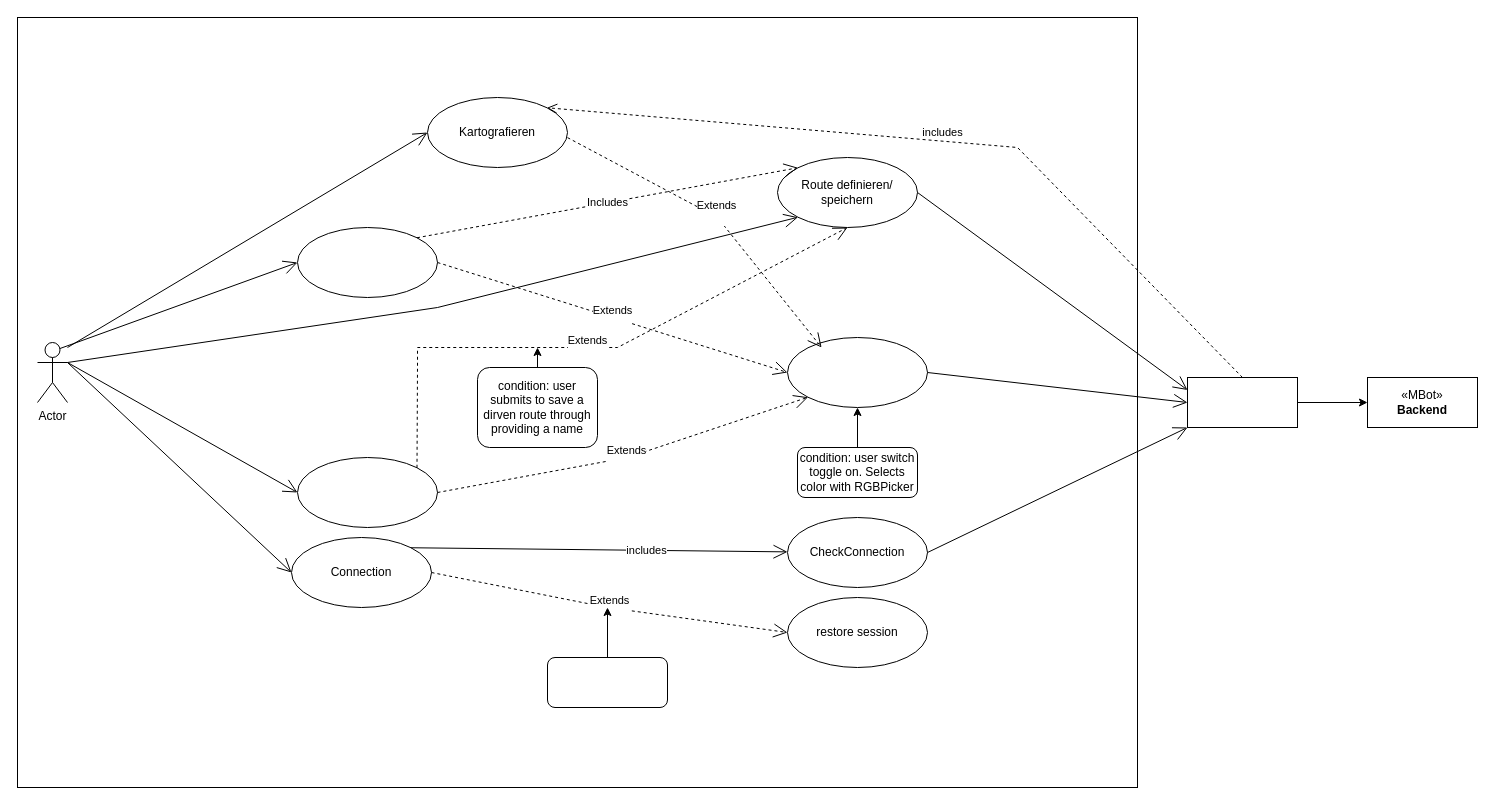
This 1495x805 diagram has some shape labels left out. The shapes that lost their labels are listed below. From the top down, each one's box as (x1, y1, x2, y2) in pixels, then its label:
(296, 226, 438, 298): Automatisch Fahren
(786, 336, 928, 408): LED ansteuern
(1186, 376, 1298, 428): «Frontend bridge» Backend
(296, 456, 438, 528): Manuell Steuern
(546, 656, 668, 708): condition: user clicks restore session button
